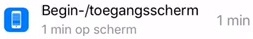name: (37, 1, 203, 21)
time: (39, 23, 75, 39)
